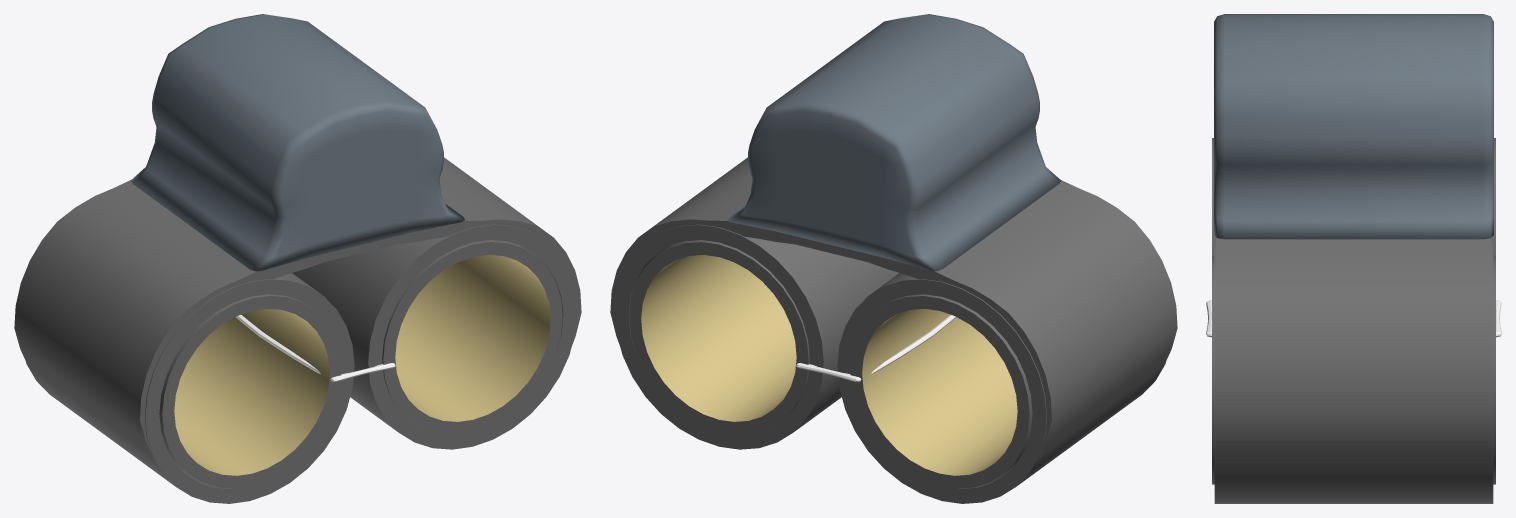
The model's file is CollarRolledUp.fbx.
3 renders of one model, left to right at view 1: azimuth 30°, elevation 25°; view 2: azimuth 150°, elevation 25°; view 3: azimuth 270°, elevation 25°, orthographic. The views are drawn at different scales.
Visible parts, largest first — view 1: GPSCollarTop, GPSCollarInsideRoll, GPSCollarTopCollar, GPSCollarOutsideRoll, GpsCollarPlastic; view 2: GPSCollarTop, GPSCollarInsideRoll, GPSCollarTopCollar, GPSCollarOutsideRoll, GpsCollarPlastic; view 3: GPSCollarTopCollar, GPSCollarTop, GPSCollarOutsideRoll, GPSCollarInsideRoll, GpsCollarPlastic.
Part boxes in pixels (x1,y1,x2,y2): GPSCollarTop: (131,14,464,271); GPSCollarInsideRoll: (159,240,562,488); GPSCollarTopCollar: (14,157,581,459); GPSCollarOutsideRoll: (26,224,577,503); GpsCollarPlastic: (236,315,395,382); GPSCollarTop: (727,14,1060,271); GPSCollarInsideRoll: (629,240,1032,488); GPSCollarTopCollar: (610,157,1177,459); GPSCollarOutsideRoll: (614,224,1165,503); GpsCollarPlastic: (796,315,955,382); GPSCollarTopCollar: (1215,237,1492,472); GPSCollarTop: (1214,14,1493,239); GPSCollarOutsideRoll: (1214,236,1493,503); GPSCollarInsideRoll: (1212,138,1495,484); GpsCollarPlastic: (1206,300,1501,337).
Bounding box in the file's own units: 50.72 × 40.09 × 26.71.
